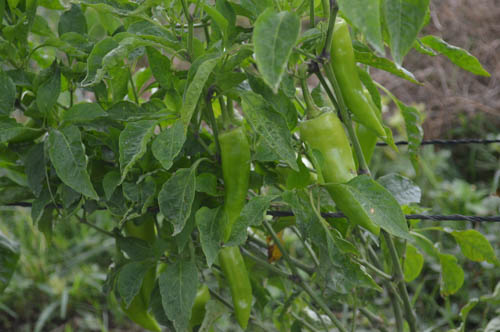ChiliPepper: (306, 111, 382, 232), (330, 20, 391, 141), (217, 133, 257, 239), (219, 246, 256, 326)
